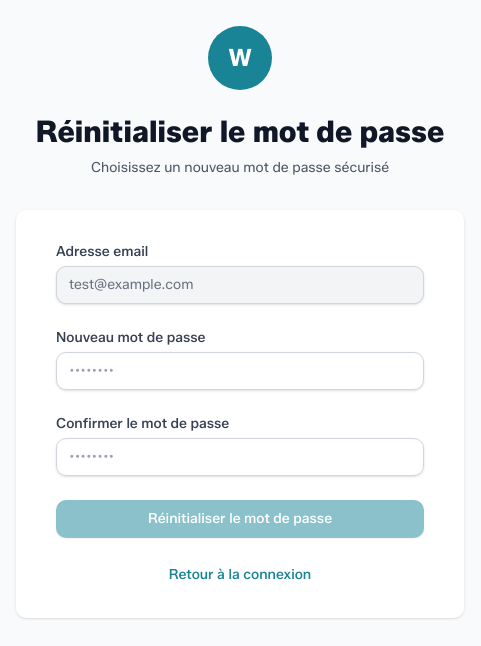
Test: ResetPasswordPage › validates passwords match
The image size is (481, 646).
Type "NewPassword1" into the password field with test id "password-input" at (240, 371), box [56, 352, 424, 390]
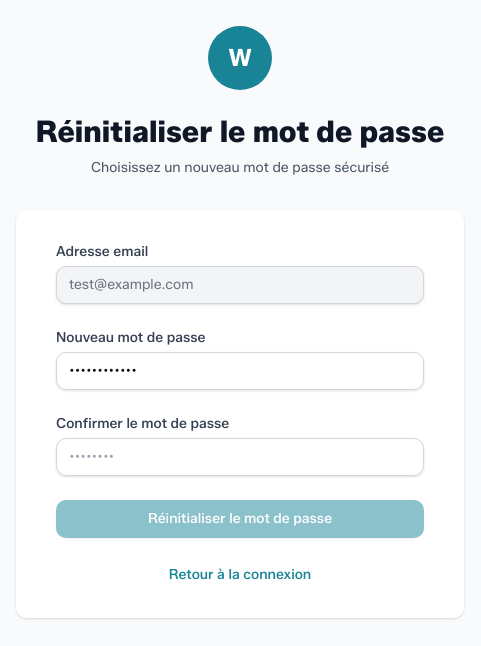
Type "DifferentPassword1" into the password field with test id "password-confirmation-input" at (240, 457), box [56, 438, 424, 476]
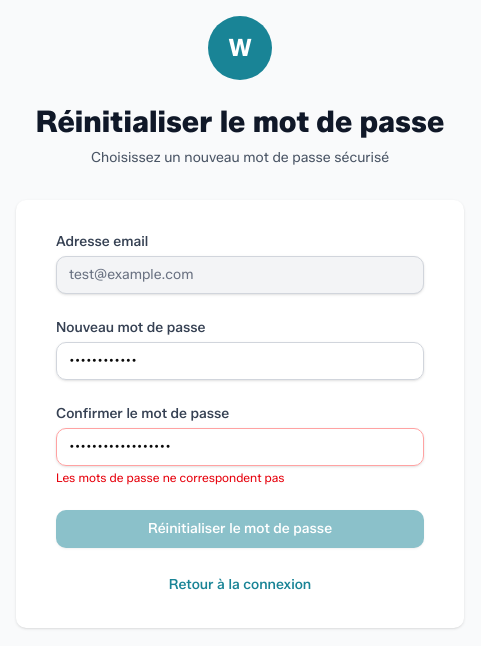
Result: the text "Les mots de passe ne correspondent pas" is shown at [56, 470, 285, 485]
